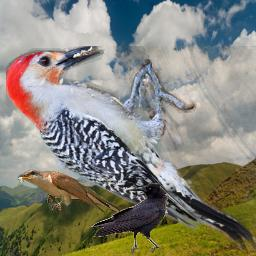Crow: (87, 183, 168, 253)
Cuckoo: (15, 169, 144, 226)
Woodpecker: (6, 46, 256, 250)
